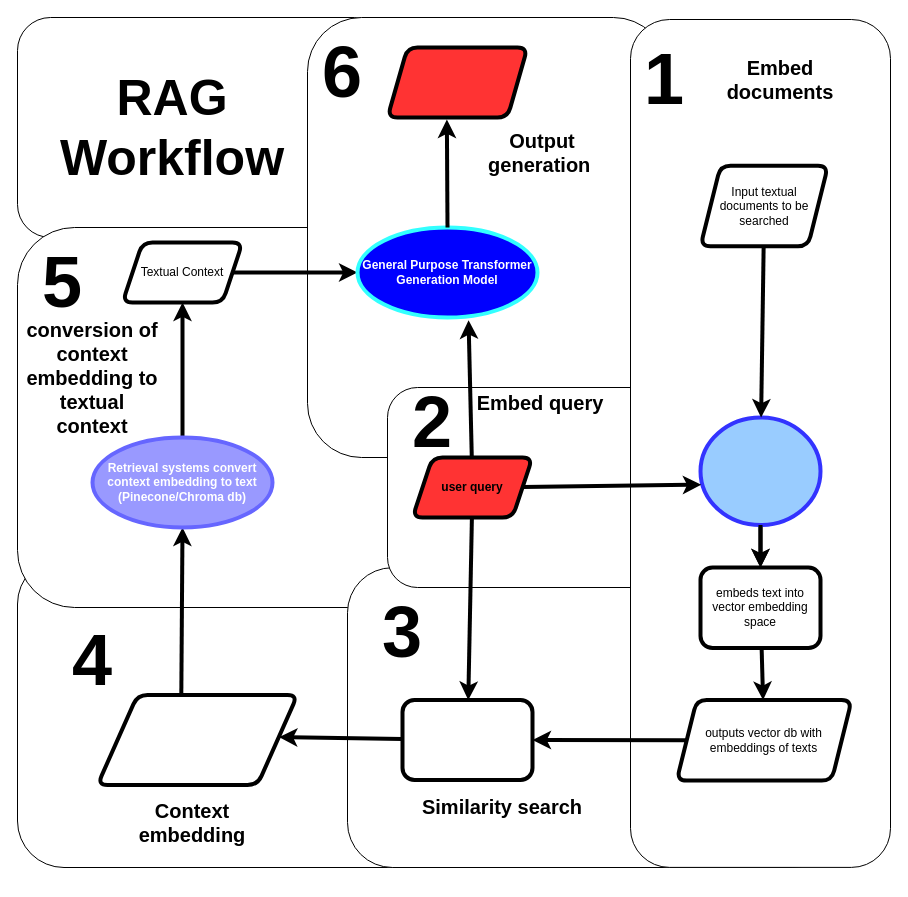
This 908x897 diagram has some shape labels left out. Each missing label, with the centre of its shape:
"Context Embedding of the results of the search of the query inside the vector db" goes at pixel 197 739.
"embedding model" goes at pixel 760 470.
"Output Response" goes at pixel 457 82.
"Similarity search of query in the vector db" goes at pixel 467 740.
